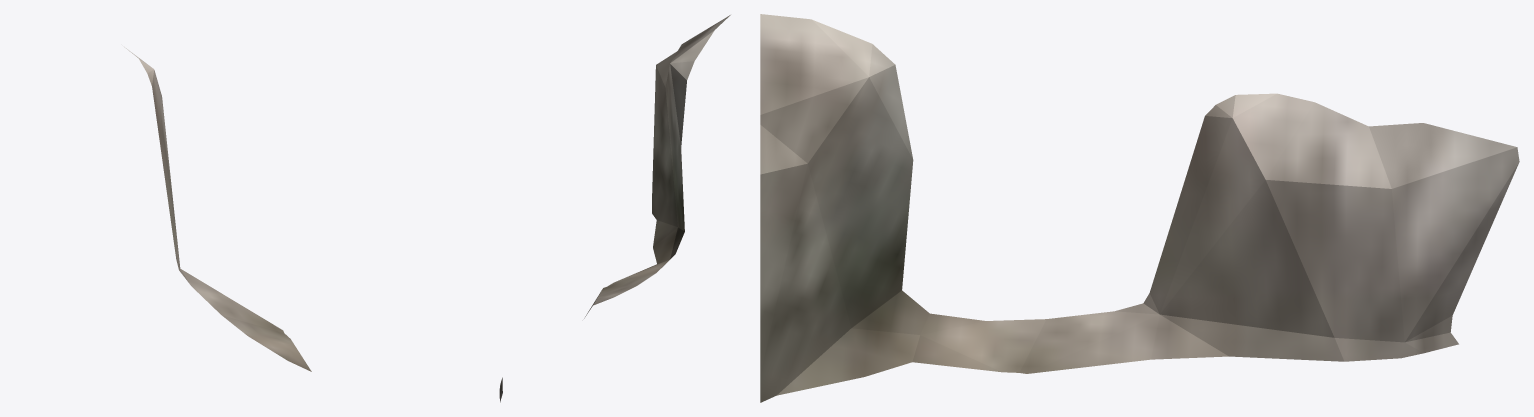
The picture shows the model from 3 angles, left to right: view 1: azimuth 30°, elevation 25°; view 2: azimuth 150°, elevation 25°; view 3: azimuth 270°, elevation 25°; orthographic projection. The views are drawn at different scales.
Size of the model in its own units: 0.2607 by 0.6841 by 1.43.
Materials: 1 (1 with a texture image).
